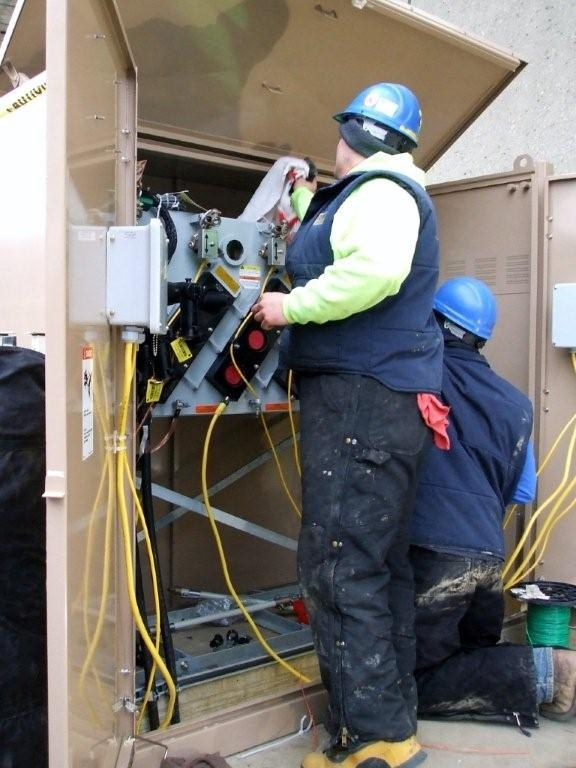blue: (329, 76, 428, 179), (430, 275, 501, 359)
